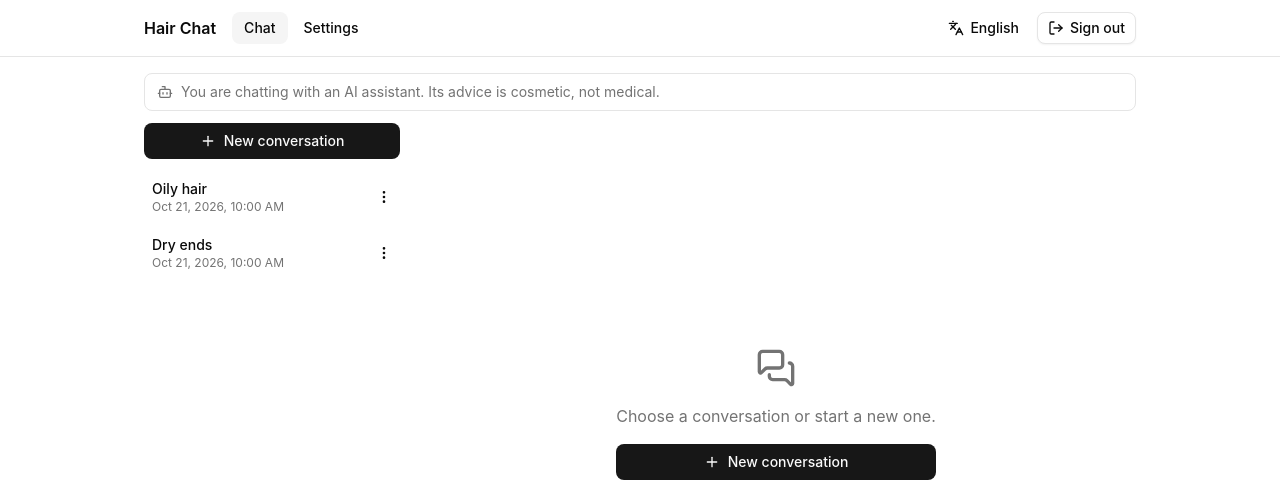
Test: rename a conversation › shows the new name at once and rolls it back when saving fails
This screenshot has width=1280, height=497.
Expected: the link "Oily hair Oct 21, 2026, 10:00 AM" is shown, [152,180,284,214]
Click the button named "Actions for “Oily hair”". click: (384, 197)
box: [368,181,400,213]
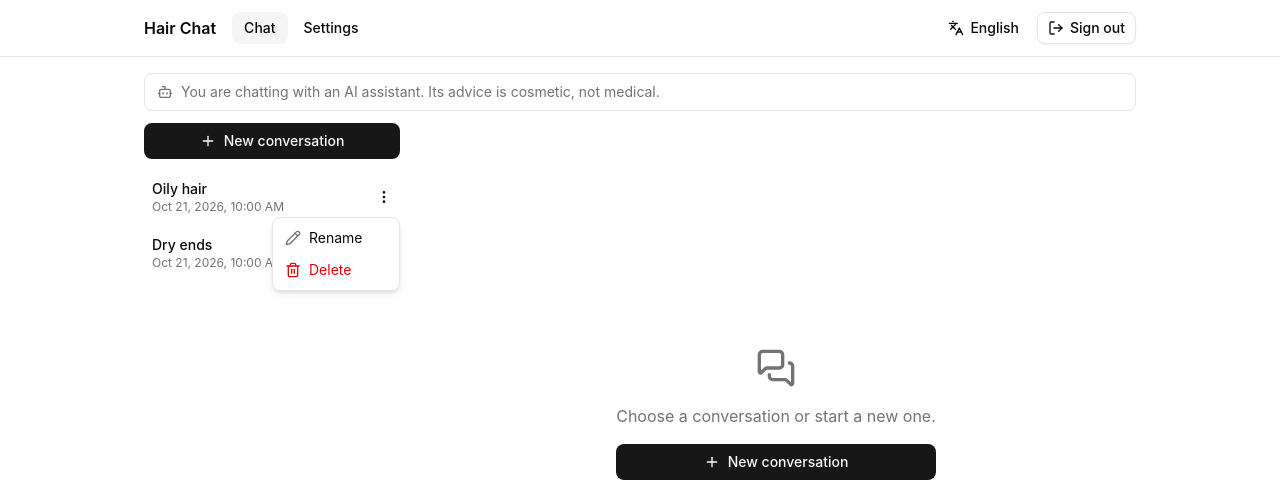
Click the menu item "Rename". click: (324, 238)
box: [285,229,362,246]
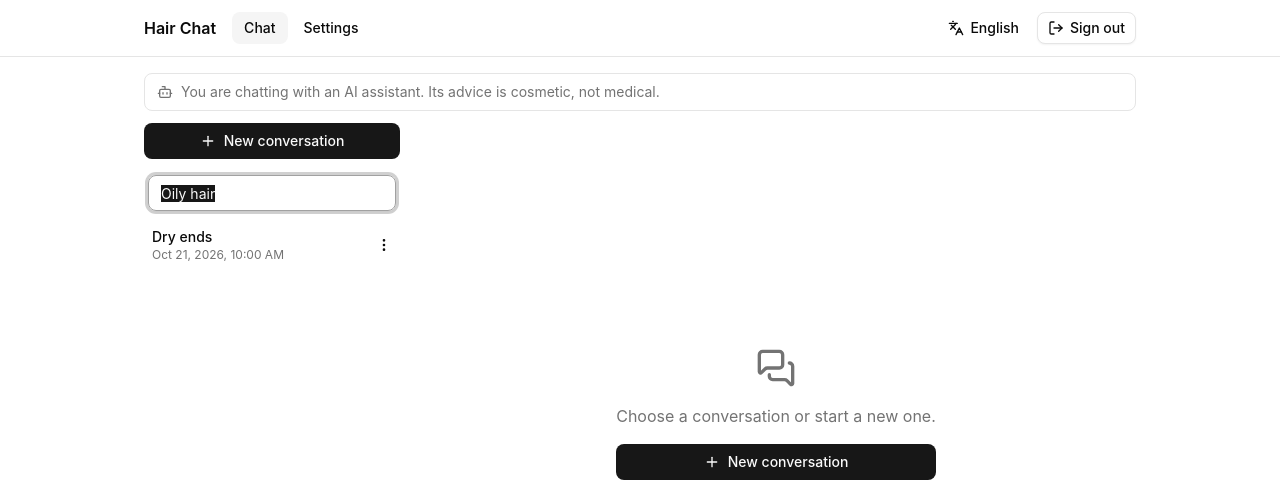
Replace the text in the field named "Conversation name" with "Scalp care". click: (272, 193)
box: [148,175,396,211]
Then press Enter
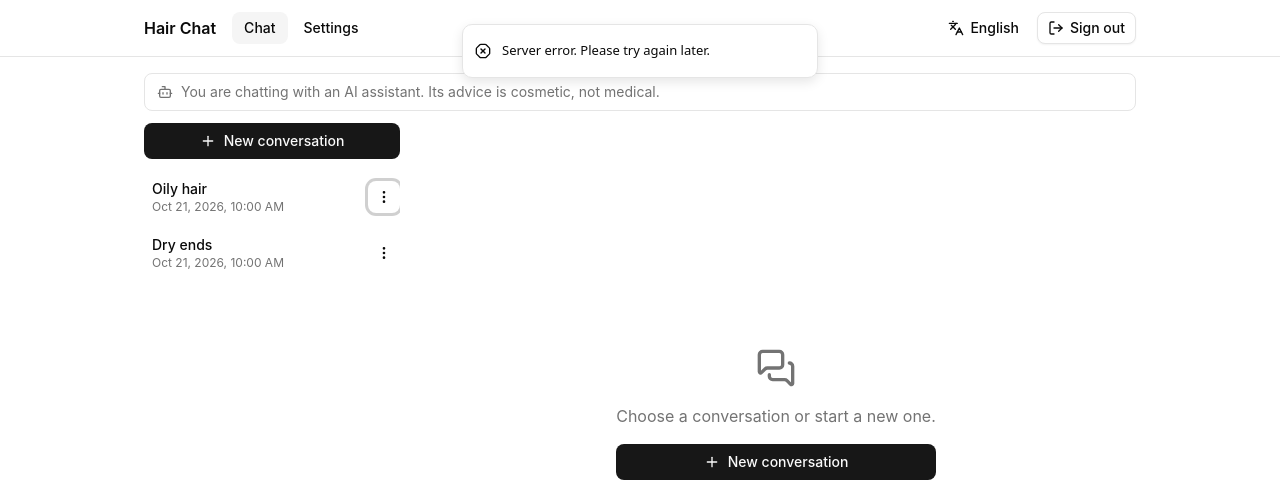
Expected: the link "Oily hair Oct 21, 2026, 10:00 AM" is shown, [152,180,284,214]
Expected: the text "Server error. Please try again later." is shown, [502,41,710,60]
